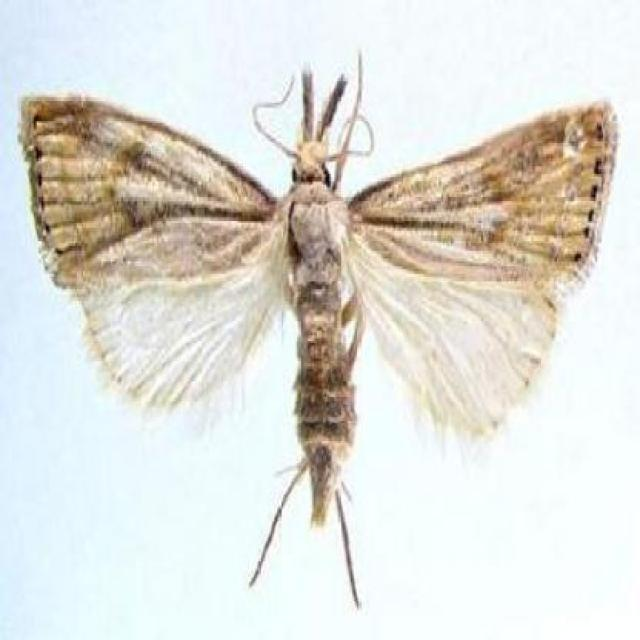stem-borer: (14, 45, 620, 617)
